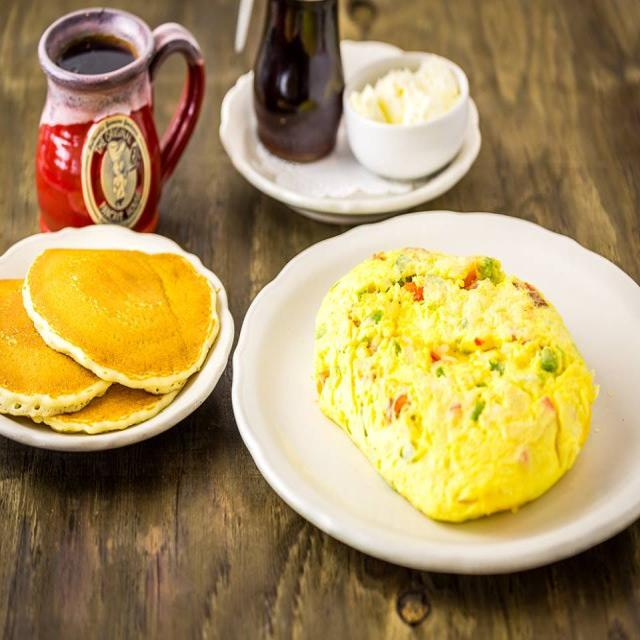Omelette: (304, 239, 598, 529)
Pancakes: (1, 228, 215, 437)
